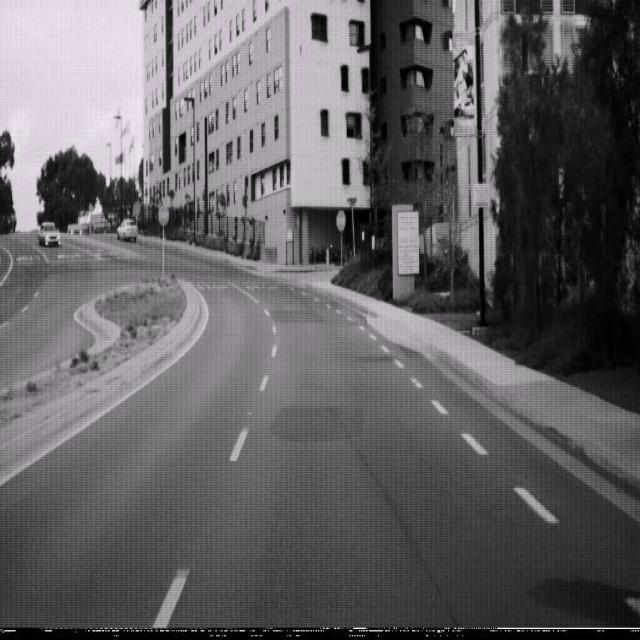stop: (158, 202, 168, 226), (336, 210, 346, 232)
